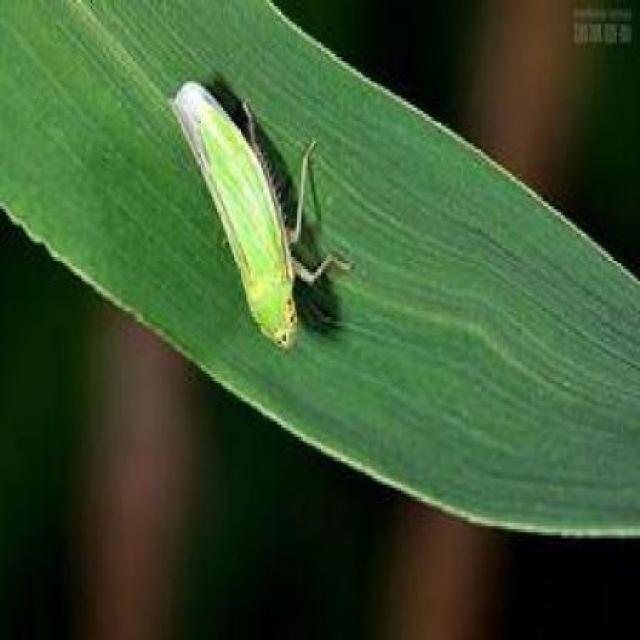green-leafhopper: (169, 73, 351, 355)
